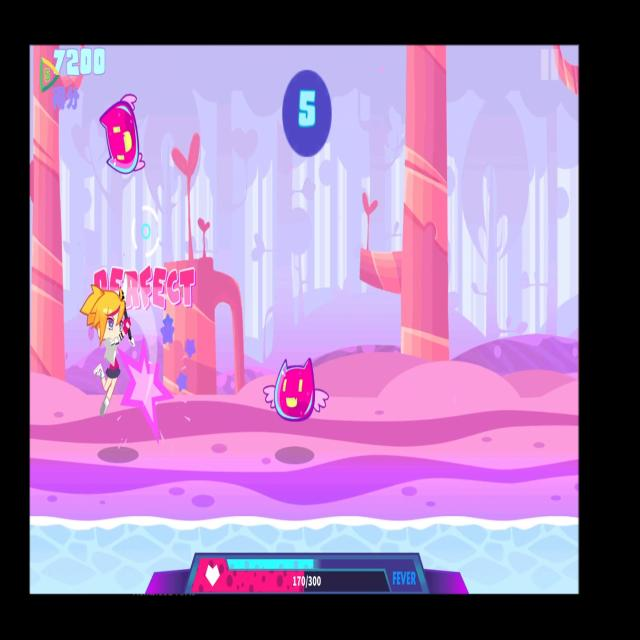mao: (262, 344, 331, 435), (95, 86, 149, 182)
